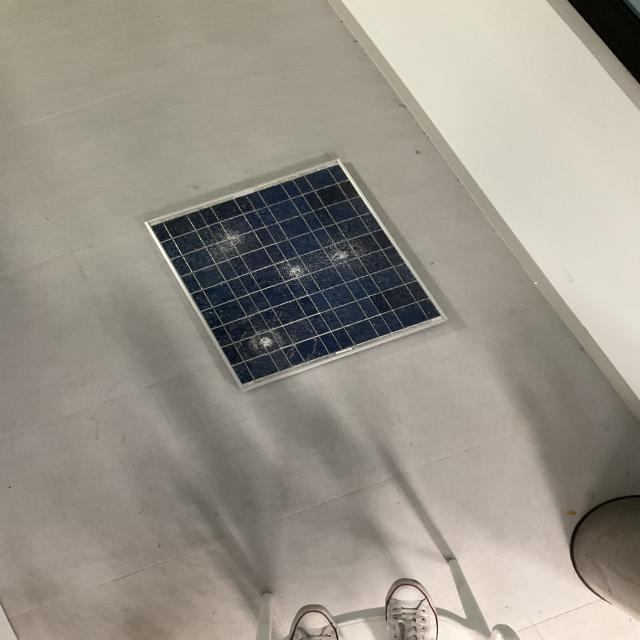Photovoltaic-Panel: (139, 132, 465, 400)
